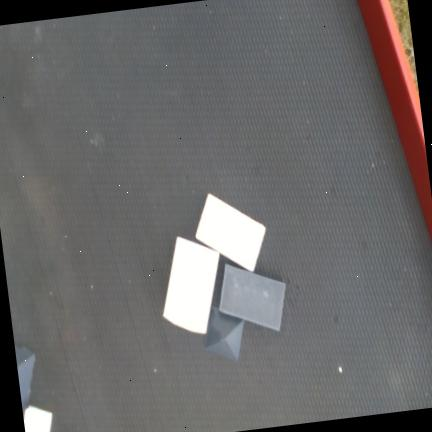Paralelepipedo: (194, 192, 267, 273), (218, 263, 286, 331), (23, 404, 52, 432)
Piramide: (203, 305, 244, 361), (14, 346, 35, 411)
Prisma_hexagonal: (162, 235, 220, 334)
